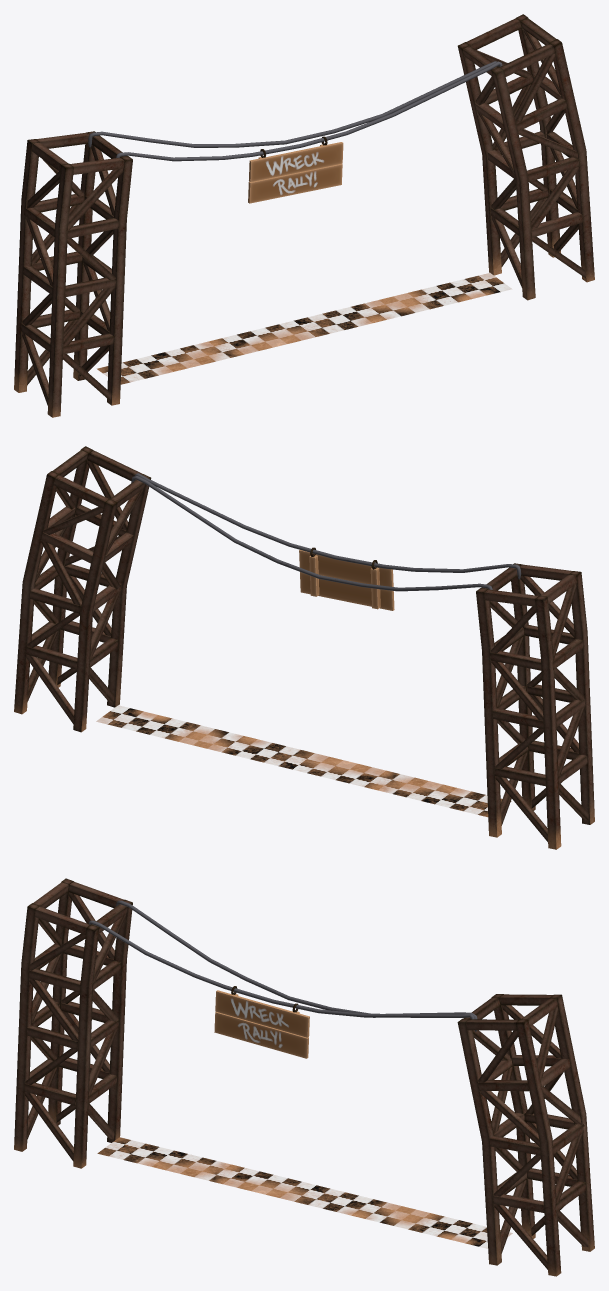
File: StartingLine (1).fbx
3 renders of one model, top to bottom at view 1: azimuth 30°, elevation 25°; view 2: azimuth 150°, elevation 25°; view 3: azimuth 330°, elevation 25°, orthographic.
Visible parts, largest first — view 1: pCylinder3; view 2: pCylinder3; view 3: pCylinder3.
Boxes of the visible parts, <box> form: pCylinder3: <box>14,14,594,417</box>; pCylinder3: <box>14,446,594,849</box>; pCylinder3: <box>14,878,594,1276</box>.
Size of the model in its own units: 6.77 by 3.03 by 0.8311.
